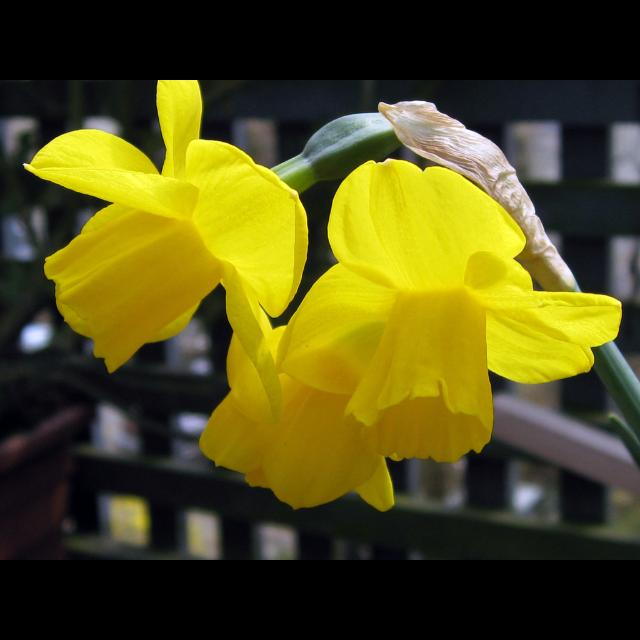Flower: (276, 158, 624, 464), (22, 80, 308, 376), (197, 324, 393, 514)
